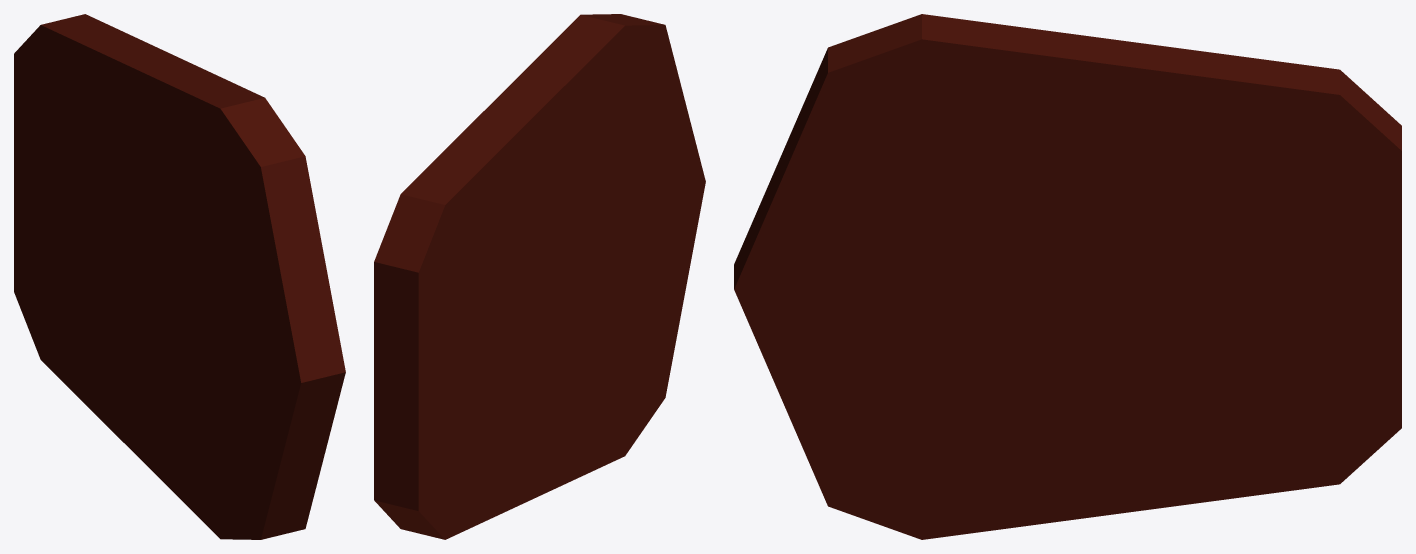
Rendered from breadslice_collision.obj.
The picture shows the model from 3 angles, left to right: view 1: azimuth 30°, elevation 25°; view 2: azimuth 150°, elevation 25°; view 3: azimuth 270°, elevation 25°; orthographic projection. The views are drawn at different scales.
Visible parts, largest first — view 1: bread_ID7.010; view 2: bread_ID7.010; view 3: bread_ID7.010.
Boxes of the visible parts, x1,y1,x2,y2 form: bread_ID7.010: (14, 14, 345, 539); bread_ID7.010: (374, 14, 705, 539); bread_ID7.010: (734, 14, 1401, 539).
Bounding box in the file's own units: 0.0255 × 0.235 × 0.2841.
